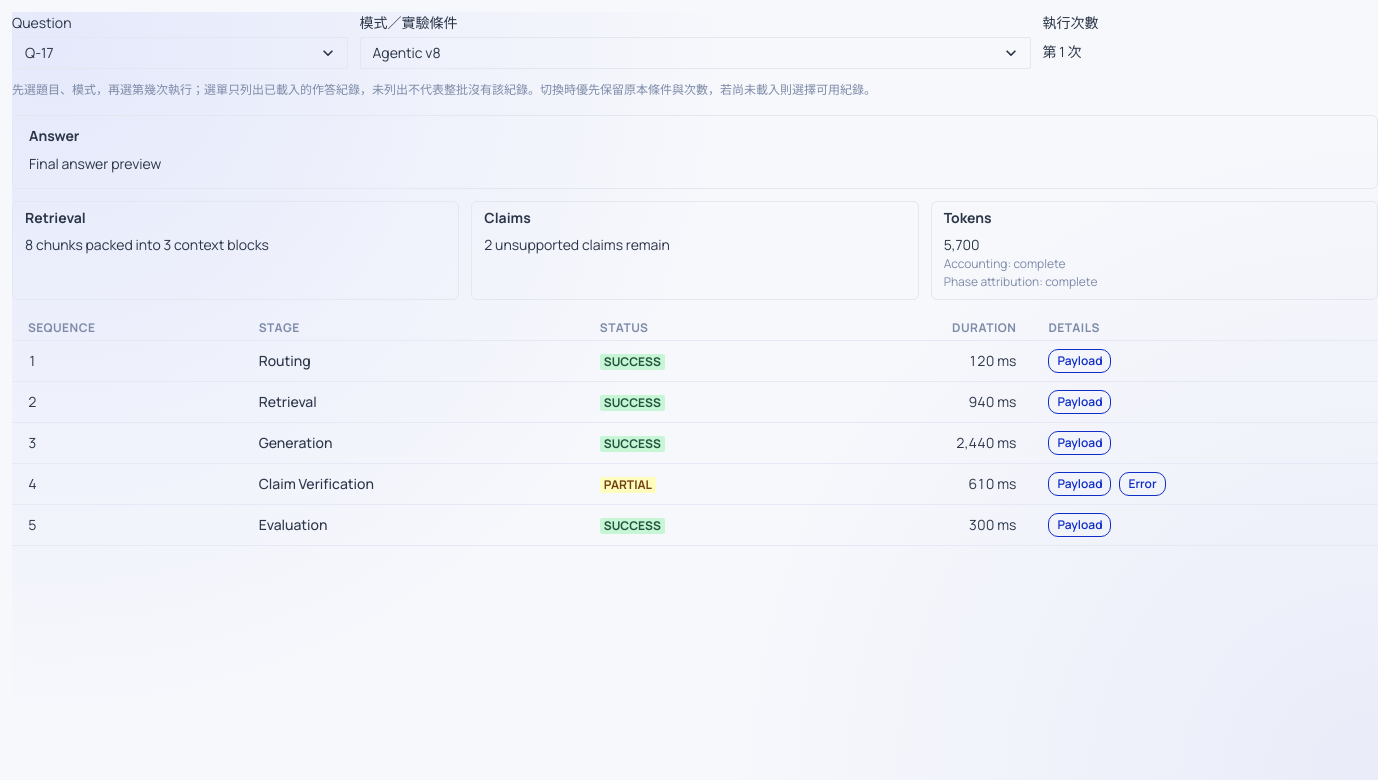
Test: RunTraceTab › renders chronological trace events, durations, payload drawer, and error drawer
Expected: the text "Routing" is shown, [243,341,584,382]
Expected: the heading "Retrieval" is shown, [25,208,86,226]
Select "naive" in the dropdown named "Mode selector" at (695, 53), box [360,37,1030,69]
Click the button "Payload" in the row of "Routing".
click(1080, 361)  # box [1048,349,1111,373]
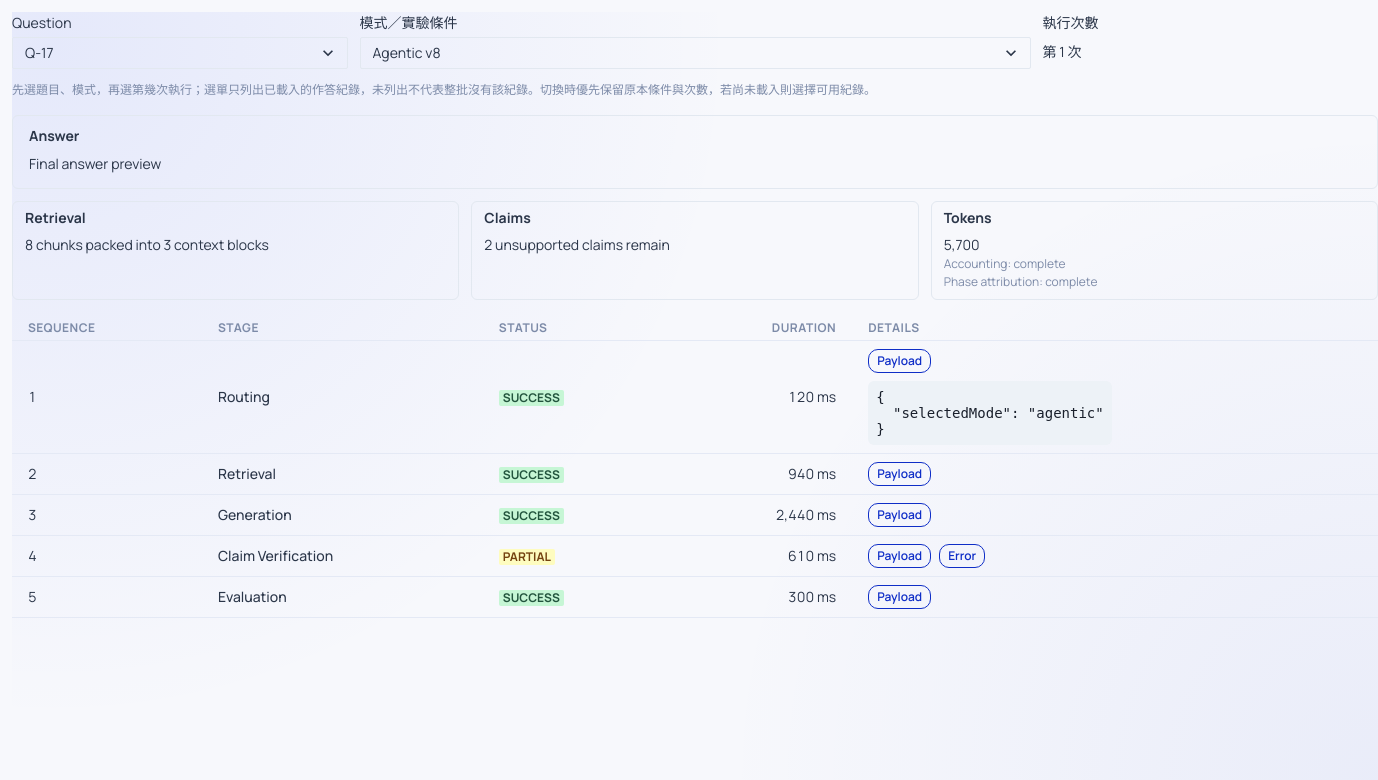
Now the text "{ \"selectedMode\": \"agentic\" }" is shown, box [868,381,1112,445]
Click the button "Error".
click(962, 556)  # box [939,544,985,568]
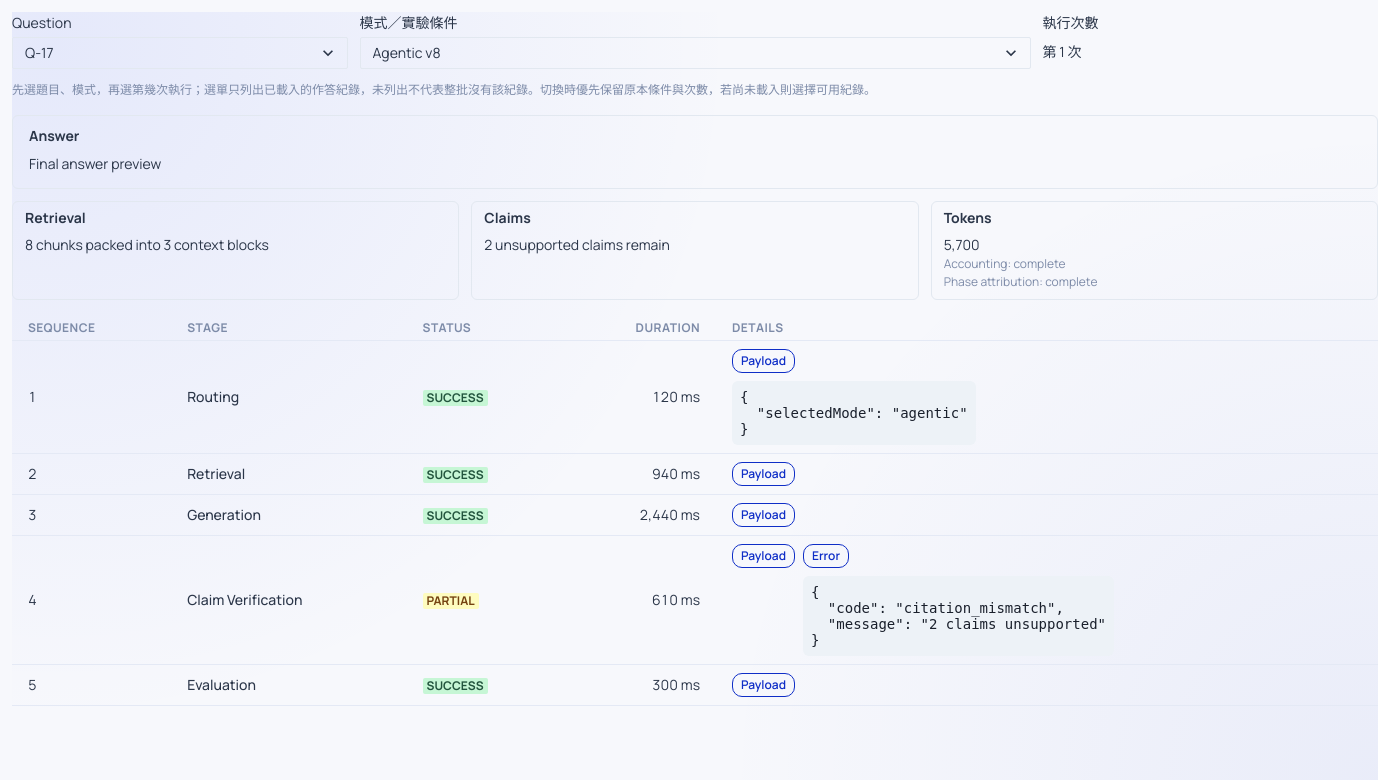
Now the text "citation_mismatch" is shown, box [811,584,1106,648]
